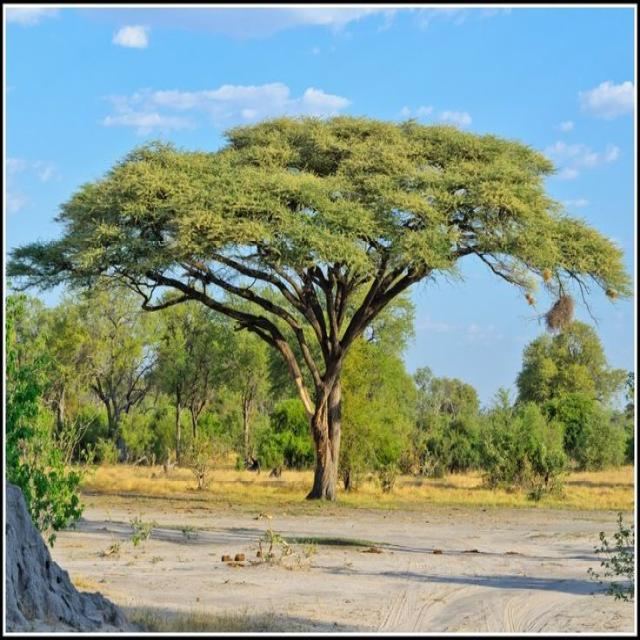Acacia: (19, 103, 599, 503)
